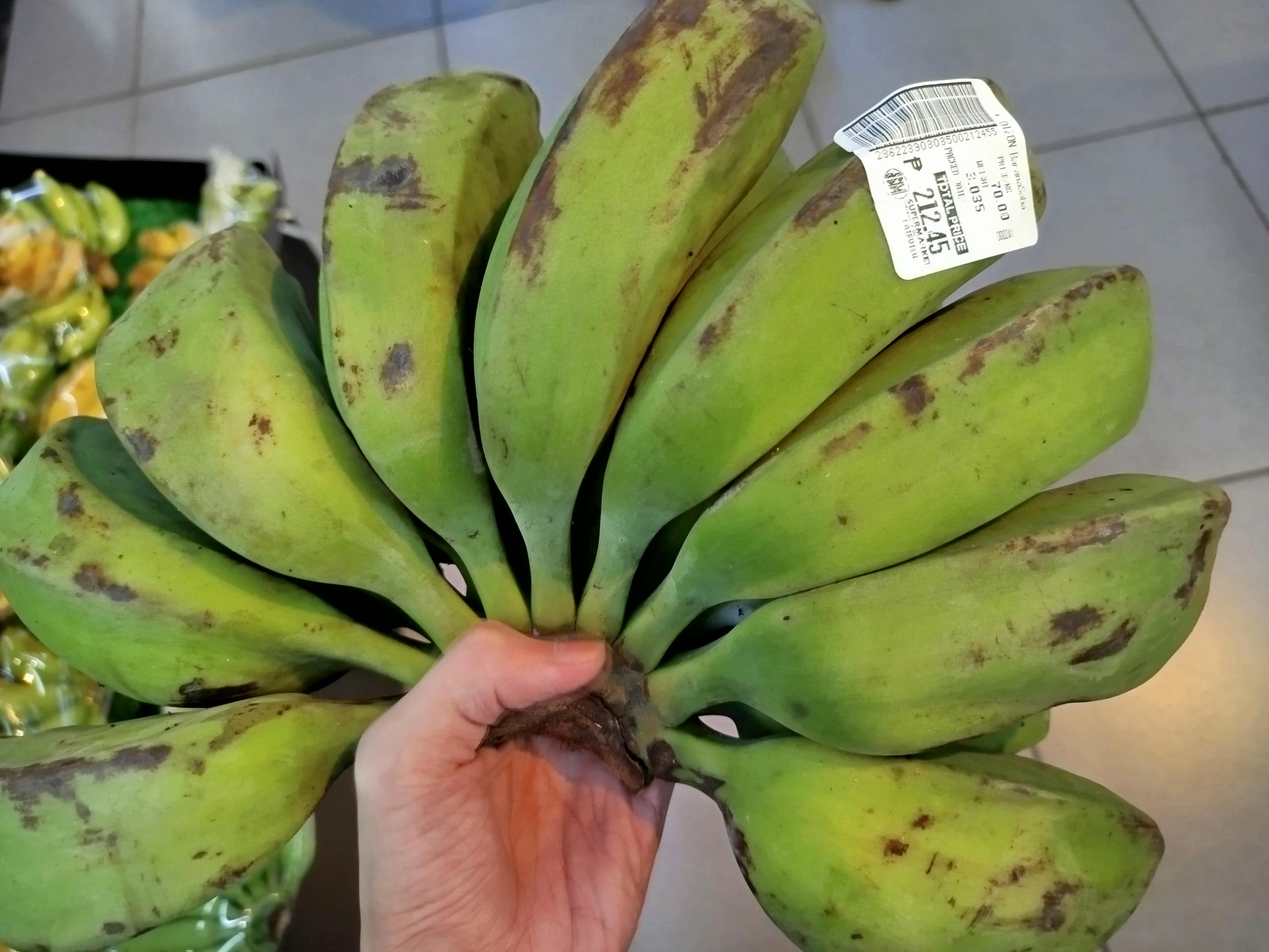underripe: (0, 0, 1229, 952)
